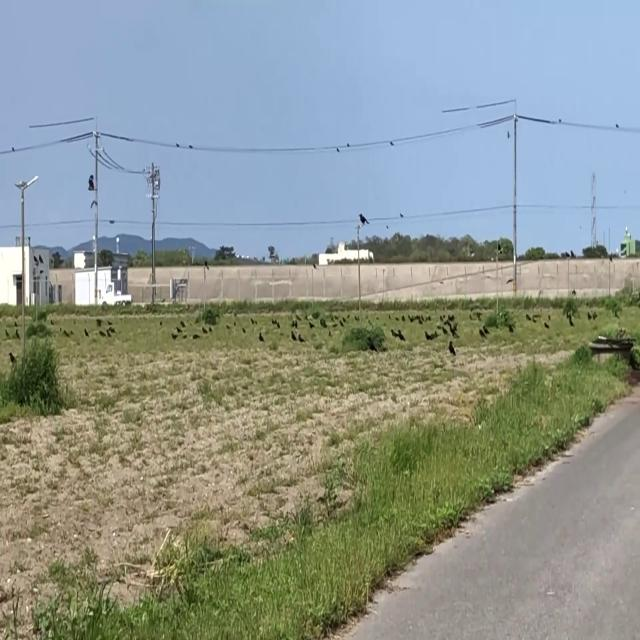bird: (358, 208, 368, 230), (88, 168, 95, 195), (449, 339, 455, 359), (369, 334, 375, 353), (259, 327, 264, 345), (398, 325, 403, 343), (175, 136, 180, 150), (479, 326, 483, 340)
